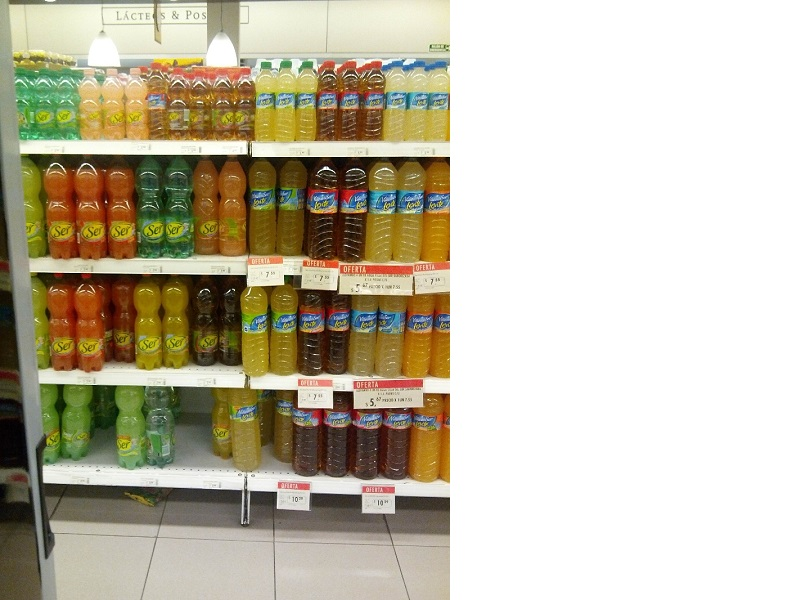lemonade: (40, 151, 88, 266), (69, 149, 114, 265), (103, 153, 147, 265), (132, 153, 174, 262), (161, 153, 201, 264), (213, 152, 254, 260), (131, 272, 170, 377), (71, 273, 111, 375), (292, 57, 325, 148), (251, 59, 281, 143), (272, 58, 298, 145)
